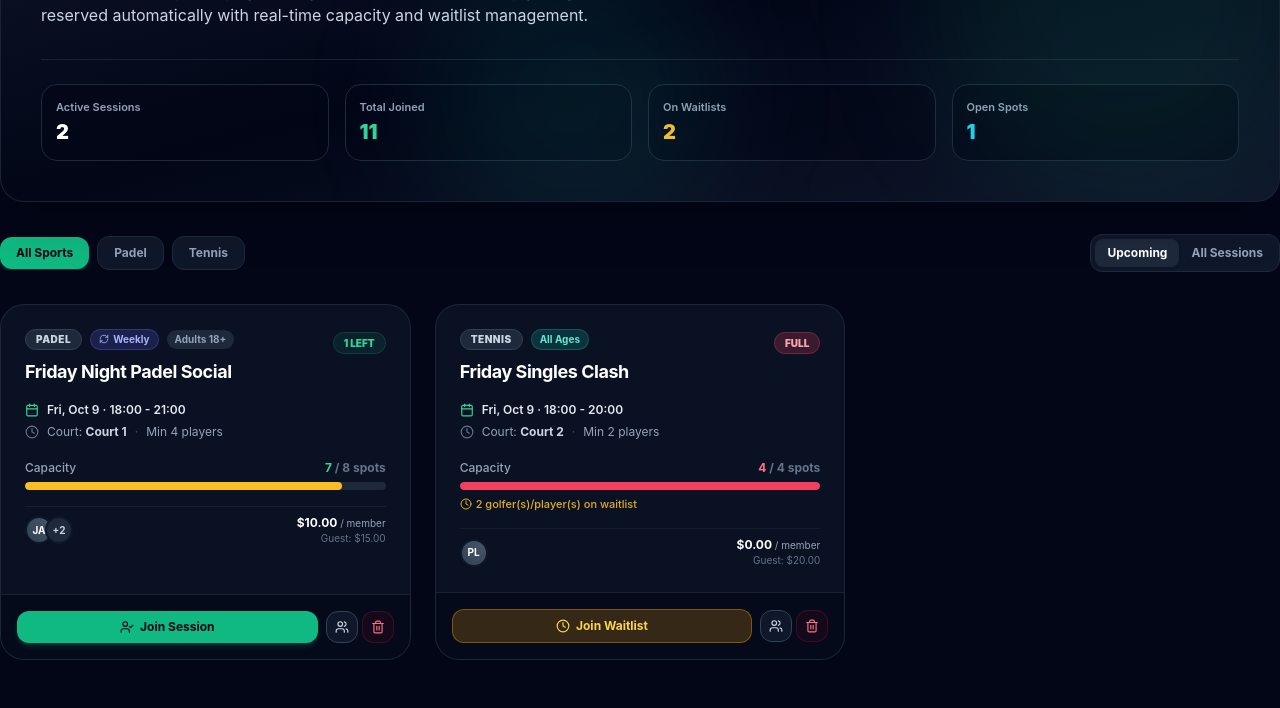
Test: SocialPlayPage Component Tests › renders waitlist CTA when session is full and opens waitlist confirmation
The image size is (1280, 708).
(page scrolled)
Expected: the heading "Friday Singles Clash" is shown, [460,354,629,386]
Click the button with test id "join-waitlist-btn-session-full": click(602, 626) [452,609,752,643]
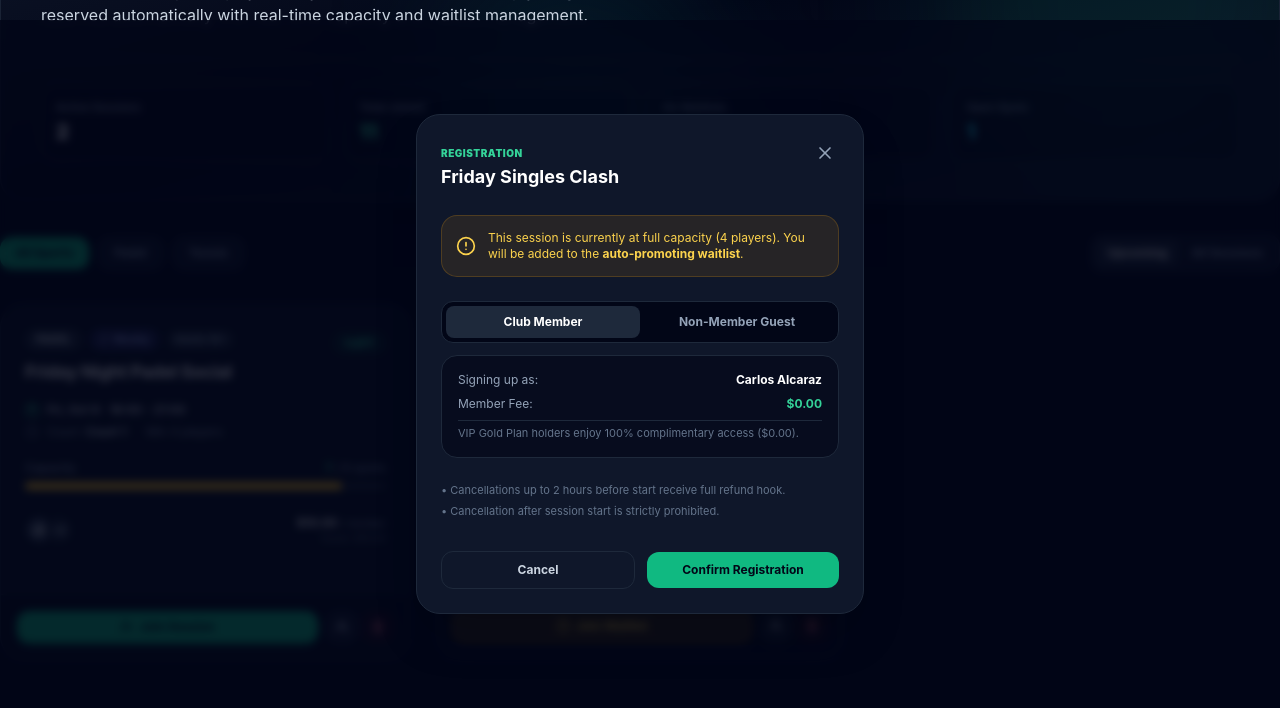
Expected: the text "auto-promoting waitlist" is shown, [603,246,740,261]
